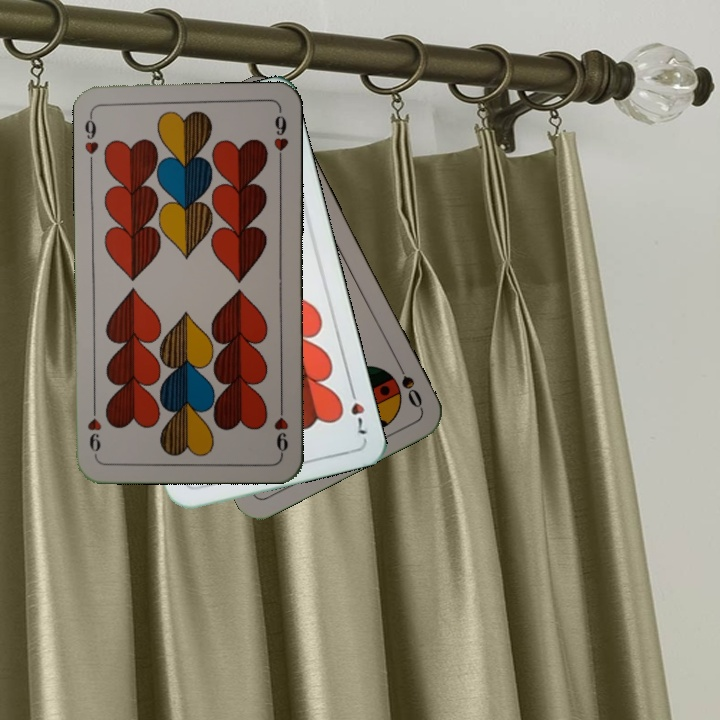H7: (346, 382, 370, 437)
H9: (270, 397, 291, 456), (80, 108, 101, 167)
SO: (391, 355, 425, 411)
